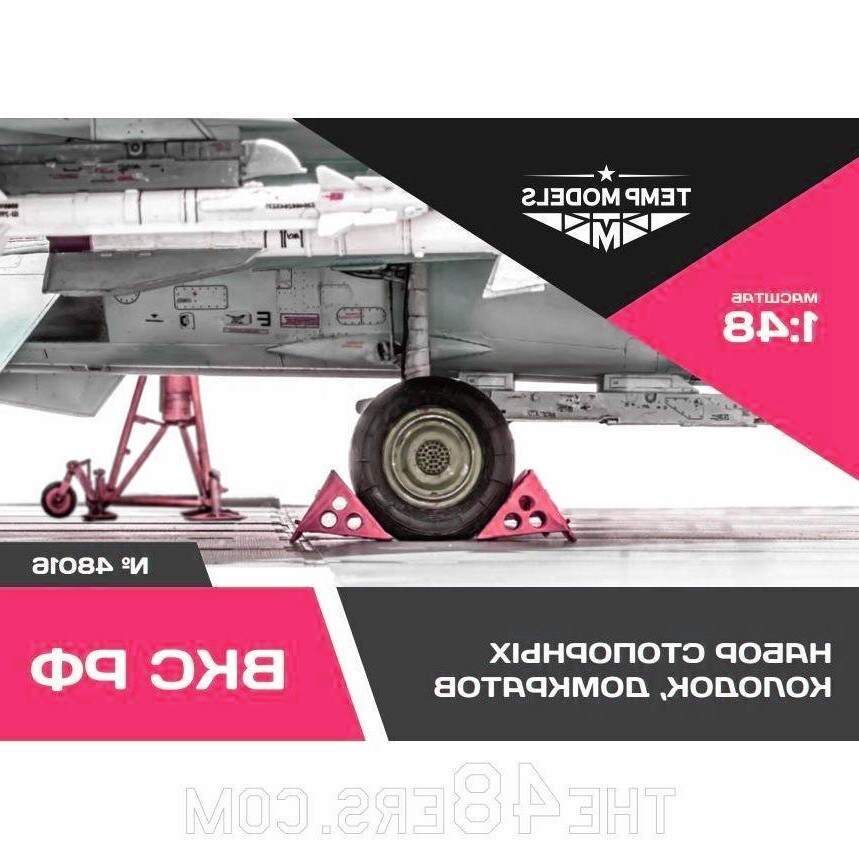chock: (291, 471, 395, 544), (476, 470, 577, 542)
wheel: (350, 372, 517, 536), (42, 479, 79, 517)
